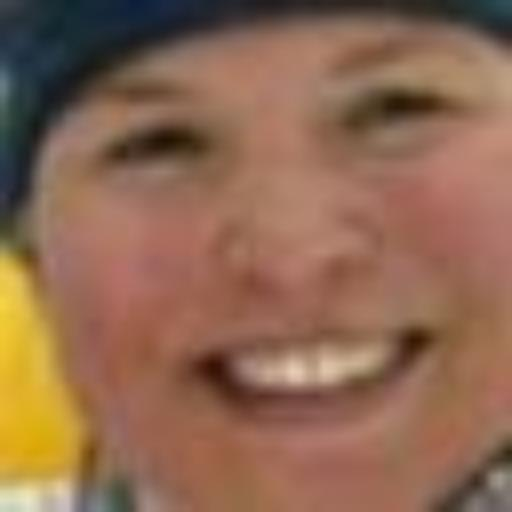left_eye: (330, 82, 453, 131)
left_lip_corner: (383, 316, 451, 372)
right_eye: (96, 111, 208, 170)
right_lip_corner: (182, 342, 248, 393)
